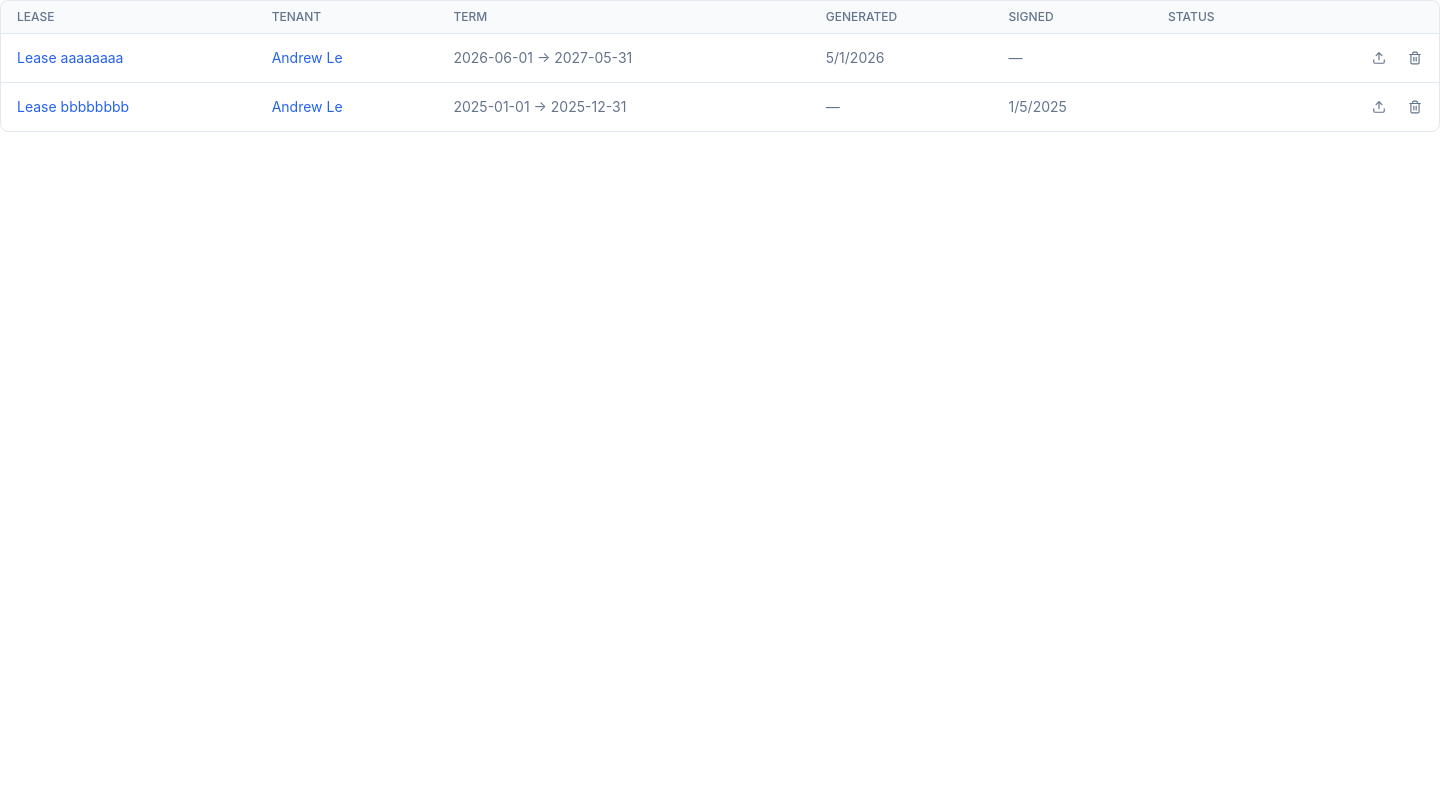
it: LeasesListBody — upload affordance › opens the modal for the correct lease when second row upload is clicked
Click the button named "Upload documents for lease bbbbbbbb". click: x=1379, y=107
box: [1363,91,1395,123]
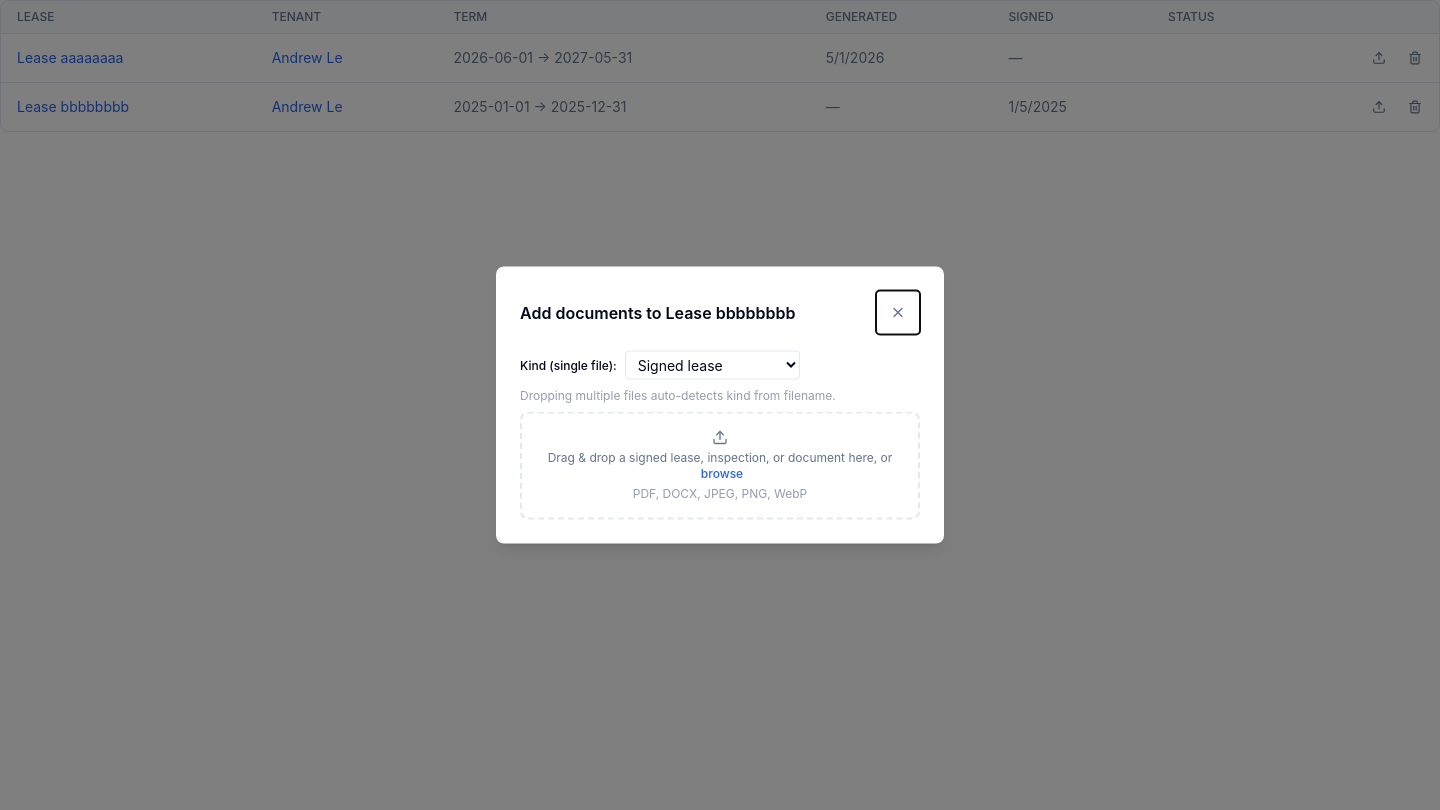
Result: the dialog with test id "lease-quick-upload-modal" is shown at [496,266,944,544]
Result: the heading "Add documents to Lease bbbbbbbb" is shown at [520,300,796,324]
